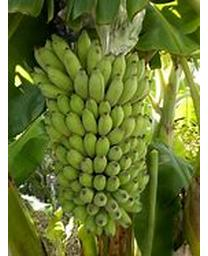banana: (29, 29, 156, 244)
